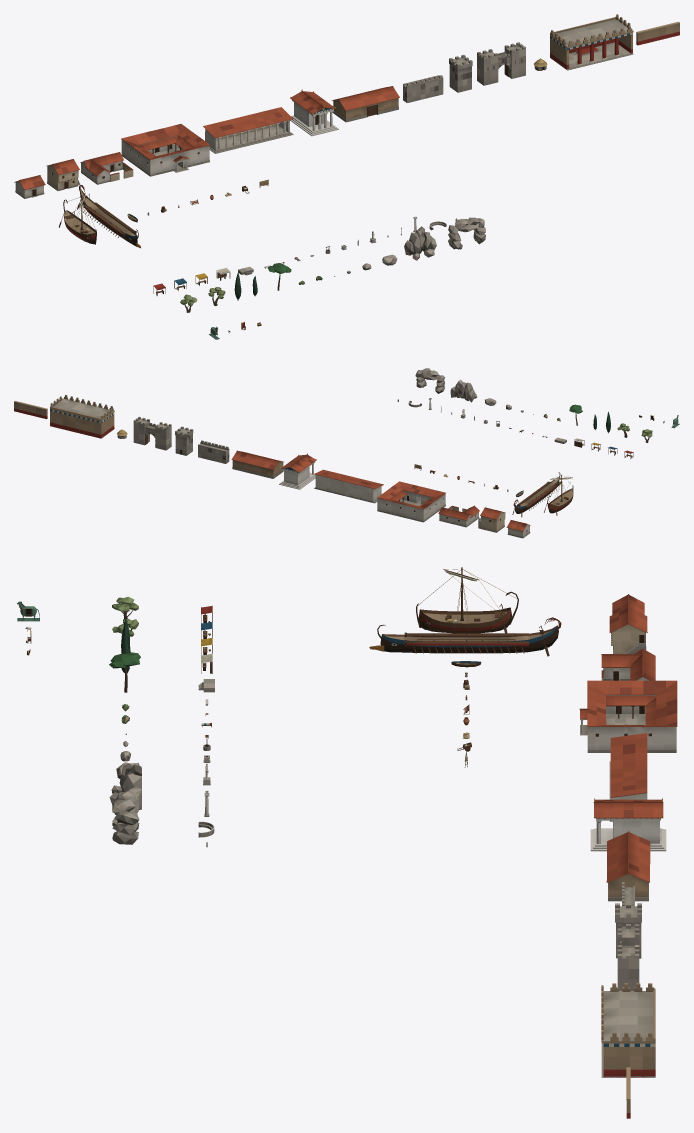
The model's file is kit.glb.
3 views of the same model, one above another, from view 1: azimuth 30°, elevation 25°; view 2: azimuth 150°, elevation 25°; view 3: azimuth 270°, elevation 25° (orthographic). The views are drawn at different scales.
Parts seen in each view (by area): view 1: courtyard_house, palace_hall, stoa, warehouse, gate, shrine, house_c, ship_trireme, house_b, wall_seg, ship_merchant, wall_tower (+4 smaller); view 2: palace_hall, courtyard_house, stoa, warehouse, gate, shrine, house_c, ship_trireme, wall_seg, house_b, ship_merchant, wall_tower (+4 smaller); view 3: courtyard_house, palace_hall, ship_trireme, shrine, ship_merchant, warehouse, stoa, house_c, house_b, gate, cave_mouth.
Part boxes in pixels (left/top/right/bottom): courtyard_house: left=121, top=124, right=209, bottom=176; palace_hall: left=550, top=14, right=633, bottom=70; stoa: left=203, top=107, right=293, bottom=153; warehouse: left=332, top=86, right=399, bottom=122; gate: left=477, top=42, right=525, bottom=85; shrine: left=290, top=89, right=338, bottom=136; house_c: left=80, top=152, right=133, bottom=184; ship_trireme: left=77, top=185, right=140, bottom=248; house_b: left=46, top=159, right=80, bottom=190; wall_seg: left=403, top=75, right=443, bottom=102; ship_merchant: left=59, top=193, right=96, bottom=244; wall_tower: left=449, top=54, right=472, bottom=92; palace_hall: left=50, top=394, right=114, bottom=438; courtyard_house: left=377, top=481, right=445, bottom=522; stoa: left=314, top=469, right=383, bottom=503; warehouse: left=231, top=450, right=283, bottom=478; gate: left=133, top=416, right=171, bottom=450; shrine: left=279, top=453, right=316, bottom=489; house_c: left=438, top=505, right=479, bottom=527; ship_trireme: left=512, top=472, right=561, bottom=517; wall_seg: left=198, top=440, right=229, bottom=463; house_b: left=478, top=507, right=505, bottom=532; ship_merchant: left=544, top=475, right=573, bottom=515; wall_tower: left=175, top=426, right=193, bottom=455; courtyard_house: left=579, top=680, right=677, bottom=752; palace_hall: left=601, top=983, right=655, bottom=1077; ship_trireme: left=369, top=617, right=561, bottom=656; shrine: left=590, top=798, right=666, bottom=851; ship_merchant: left=416, top=567, right=518, bottom=633; warehouse: left=606, top=831, right=650, bottom=901; stoa: left=609, top=733, right=647, bottom=821; house_c: left=601, top=648, right=655, bottom=680; house_b: left=609, top=607, right=647, bottom=653; gate: left=617, top=924, right=639, bottom=990; cave_mouth: left=112, top=790, right=139, bottom=844.
Size of the model in its own units: 219 by 13 by 122.
